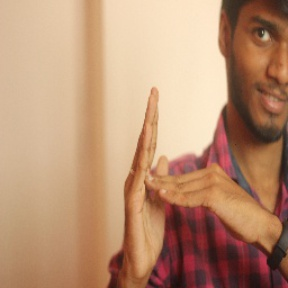Z: (116, 83, 264, 270)
